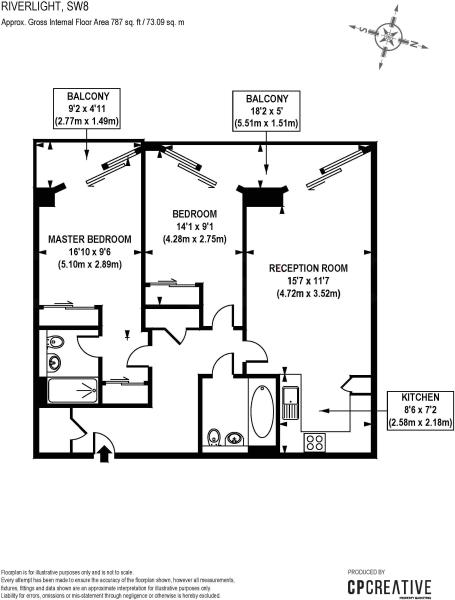GrossArea: (1, 16, 200, 31)
